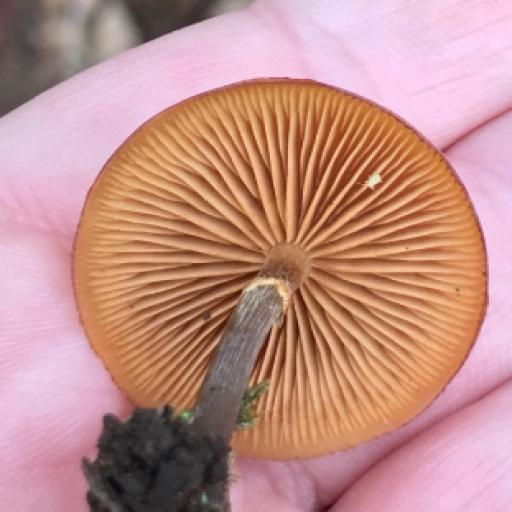mushroom: (52, 70, 494, 509)
